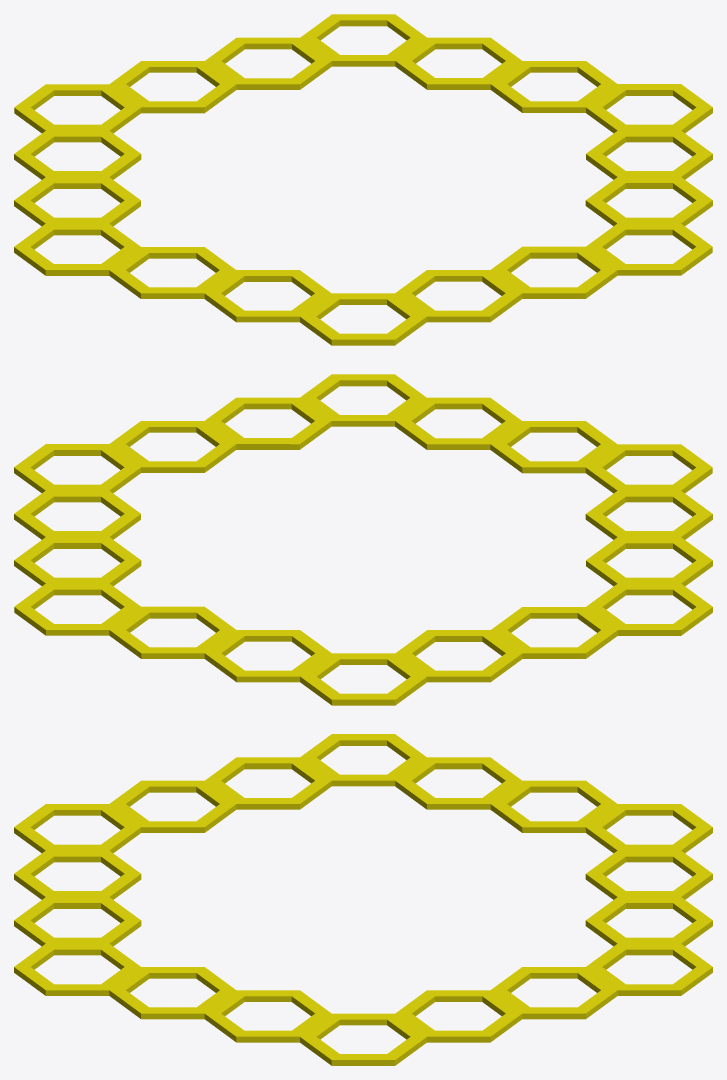
The model's file is hexagon-highlight.glb.
3 renders of one model, top to bottom at view 1: azimuth 30°, elevation 25°; view 2: azimuth 150°, elevation 25°; view 3: azimuth 270°, elevation 25°, orthographic.
Visible parts, largest first — view 1: Cylinder.032; view 2: Cylinder.032; view 3: Cylinder.032.
Part boxes in pixels (left/top/right/bottom): Cylinder.032: left=14, top=14, right=712, bottom=345; Cylinder.032: left=14, top=374, right=712, bottom=705; Cylinder.032: left=14, top=734, right=712, bottom=1065.
Bounding box in the file's own units: 28 × 0.2309 × 25.38.
